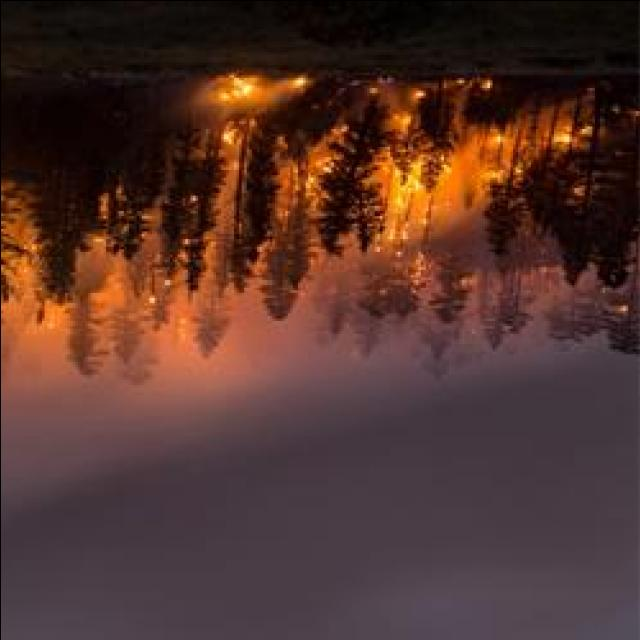fire: (203, 70, 304, 116), (394, 172, 414, 204)
smoke: (144, 352, 297, 452), (2, 321, 78, 425)
